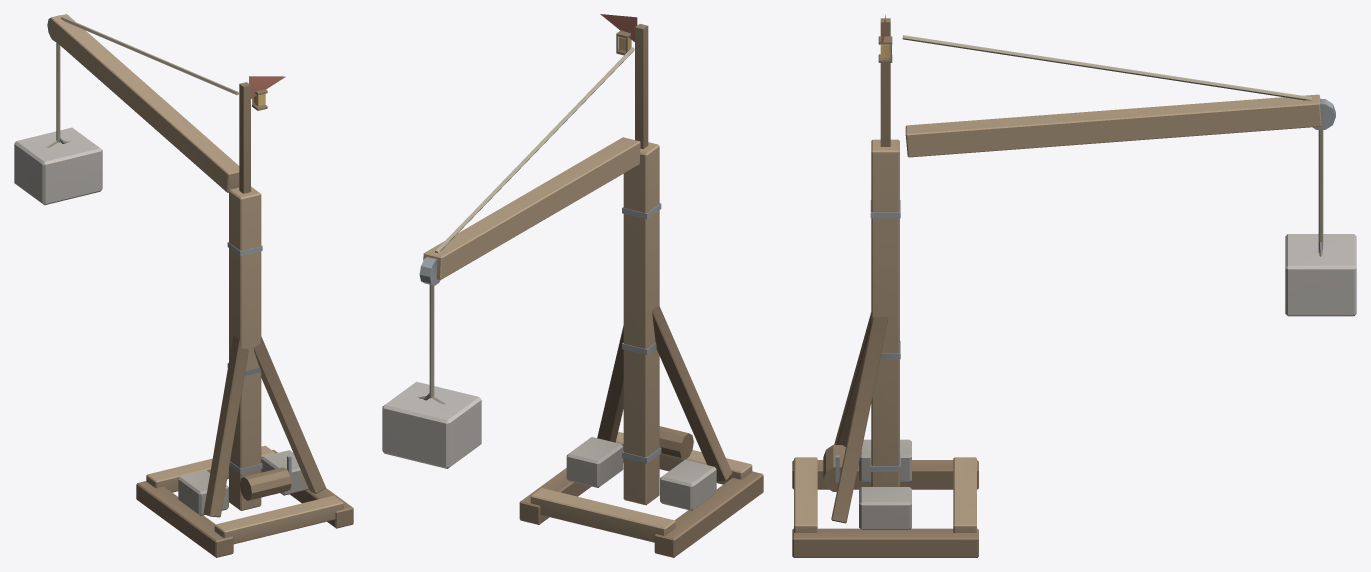
The model's file is crane_big.glb.
The picture shows the model from 3 angles, left to right: view 1: azimuth 30°, elevation 25°; view 2: azimuth 150°, elevation 25°; view 3: azimuth 270°, elevation 25°; orthographic projection. The views are drawn at different scales.
Visible parts, largest first — view 1: geometry_crane_big, geometry_boom; view 2: geometry_crane_big, geometry_boom; view 3: geometry_crane_big, geometry_boom.
Boxes of the visible parts, <box> form: geometry_crane_big: <box>136,76,353,557</box>; geometry_boom: <box>14,14,239,205</box>; geometry_crane_big: <box>519,14,763,557</box>; geometry_boom: <box>382,47,640,468</box>; geometry_crane_big: <box>792,14,978,557</box>; geometry_boom: <box>902,35,1356,316</box>.
Size of the model in its own units: 3 by 9 by 9.08.
